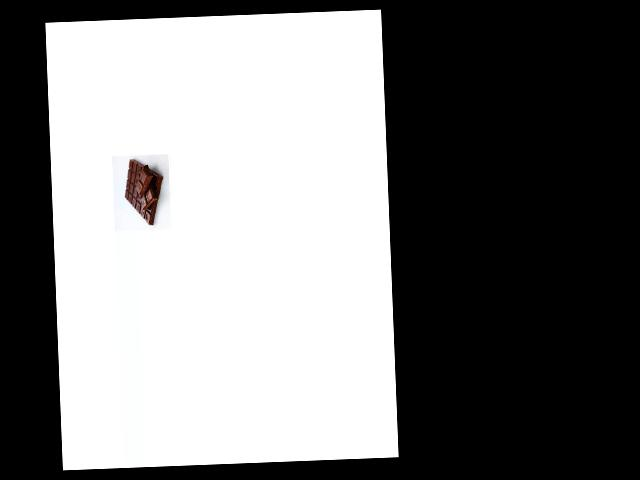chocolate: (120, 157, 167, 227)
